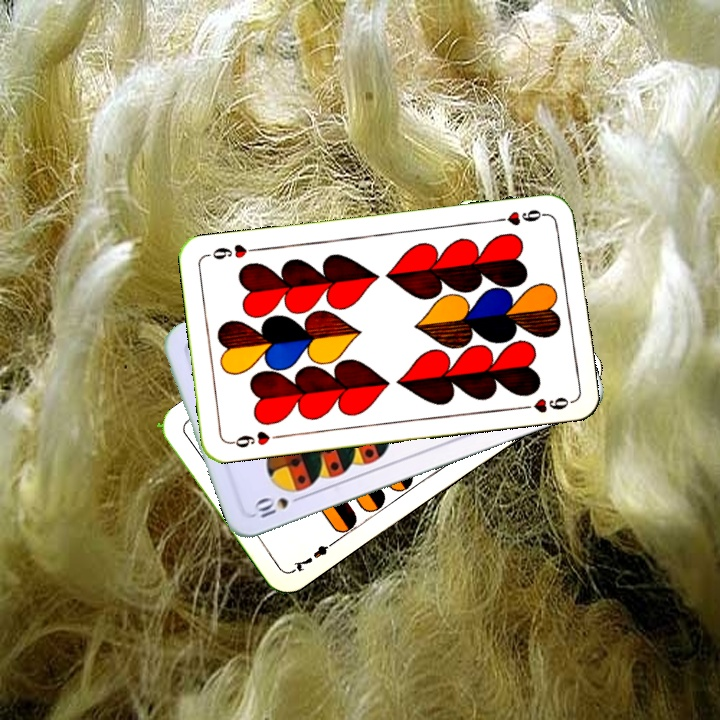E7: (289, 535, 340, 575)
H9: (226, 427, 285, 451), (491, 205, 550, 229)
S10: (250, 491, 307, 521)
